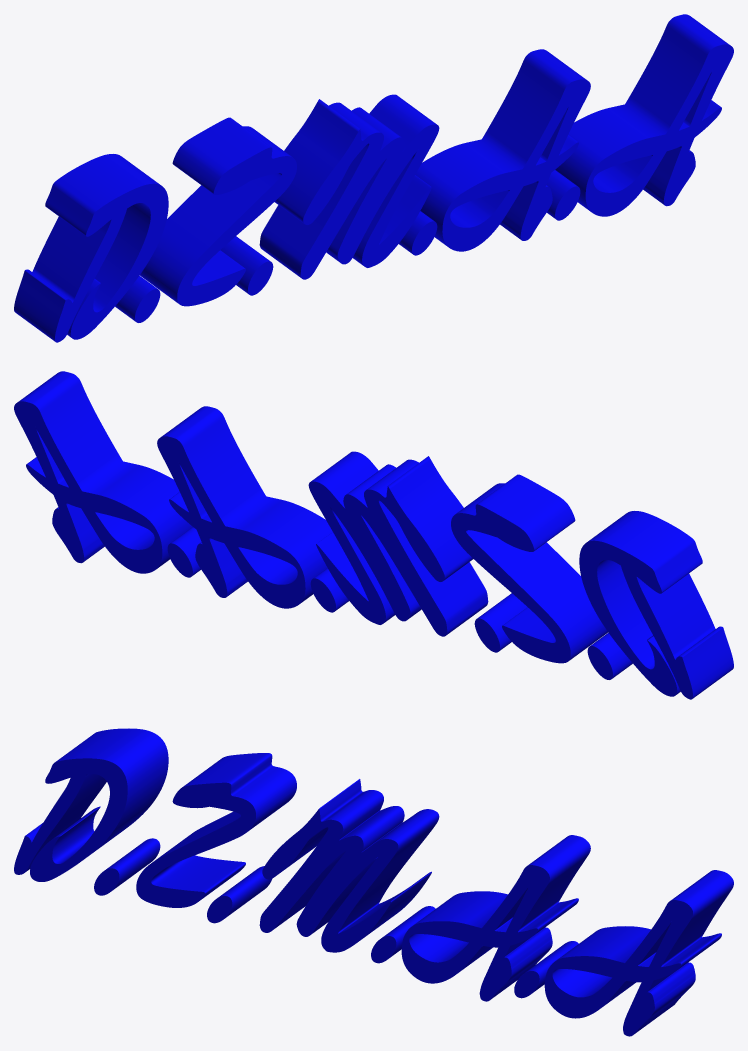
3 renders of one model, top to bottom at view 1: azimuth 30°, elevation 25°; view 2: azimuth 150°, elevation 25°; view 3: azimuth 330°, elevation 25°, orthographic.
Parts seen in each view (by area): view 1: Text; view 2: Text; view 3: Text.
Boxes of the visible parts, x1,y1,x2,y2 form: Text: (14,14,733,342); Text: (14,371,733,699); Text: (14,728,733,1036).
Size of the model in its own units: 4.31 by 0.9457 by 0.45.
